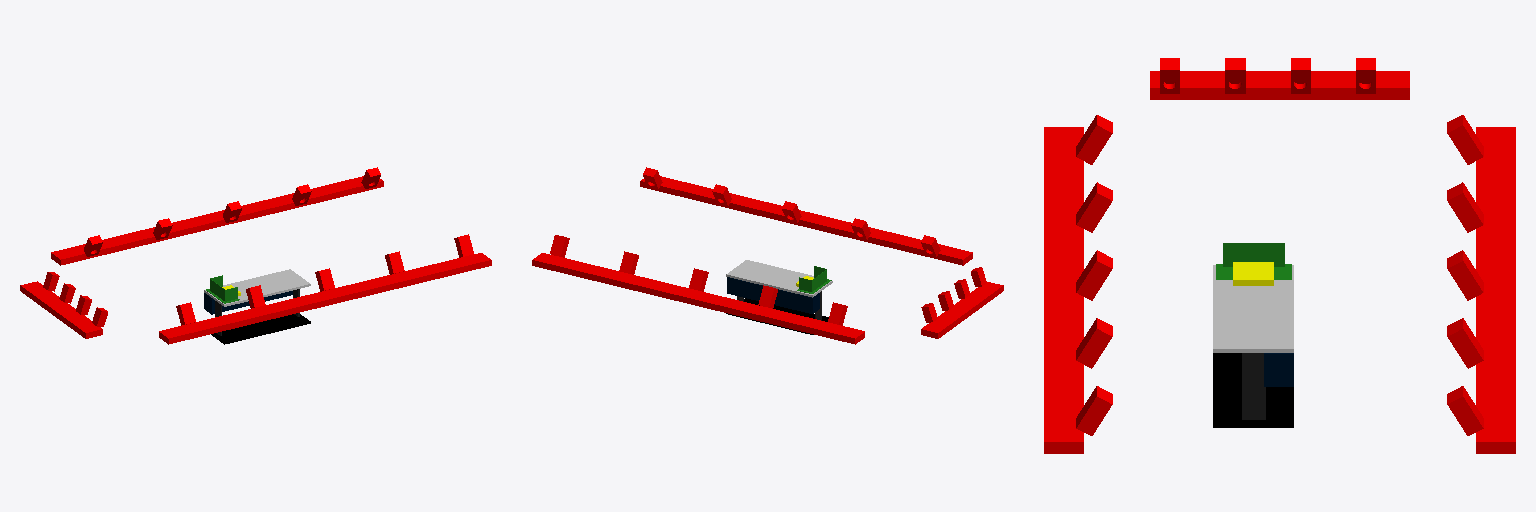
robot.urdf — superchick:
<?xml version="1.0" ?>
<!-- =================================================================================== -->
<!-- |    This document was autogenerated by xacro from src/superchicko/superchick/superchick.xacro | -->
<!-- |    EDITING THIS FILE BY HAND IS NOT RECOMMENDED                                 | -->
<!-- =================================================================================== -->
<robot name="superchick" xmlns:xacro="http://www.ros.org/wiki/xacro">
  <!-- General Properties -->
  <!-- This file contains the table and bladder descriptions -->
  <!-- Matrial Girl
    [author]-->
  <material name="table_color">
    <color rgba="0.8 0.8 0.8 1"/>
  </material>
  <material name="blue">
    <color rgba="0 0 .8 1"/>
  </material>
  <material name="table_cover_color">
    <color rgba="0 0.101960784314 0.2 1"/>
  </material>
  <material name="dark_gray">
    <color rgba="0.156863 0.156863 0.156863 1"/>
  </material>
  <material name="vicon_red">
    <color rgba="1 0 0 1"/>
  </material>
  <material name="white">
    <color rgba="1 1 1 1"/>
  </material>
  <material name="base_color">
    <color rgba="0 0 0 0"/>
  </material>
  <material name="brown">
    <color rgba="0.647059 0.164706 0.164706 1"/>
  </material>
  <material name="bladder_color">
    <color rgba="1.0 1.0 0 1.0"/>
  </material>
  <material name="panel_color">
    <color rgba="0.133 0.55 0.13 1"/>
  </material>
  <!-- Model for the Superchick Table Spec
      Author: [author], August 2016

        Generate urdf with
        rosrun xacro xacro src/superchick/table.xacro > table.urdf
        Then run with

        roslaunch superchick display.launch model:=table.urdf
  -->
  <!-- table top properties -->
  <!-- table leg properties -->
  <!-- table leg base properties -->
  <!-- @TODO: not to scale distance between two legs -->
  <!-- table cover properties -->
  <!-- table legs artificial base link -->
  <link name="world">
    <visual>
      <origin rpy="0 0 0" xyz="0 0 0"/>
      <geometry>
        <box size="1.524 0.6198 0.0381"/>
      </geometry>
      <material name="base_color"/>
      <origin rpy="0 0 0" xyz="0 0 0"/>
    </visual>
    <collision>
      <geometry>
        <box size="1.524 0.6198 0.0381"/>
      </geometry>
    </collision>
    <!-- KDL does not support root link inertia mass -->
  </link>
  <!-- right leg -->
  <link name="right_leg">
    <visual>
      <geometry>
        <box size="0.635 0.1778 0.0254"/>
      </geometry>
      <origin rpy="0 1.57075 0" xyz="0 0 0"/>
      <material name="dark_gray"/>
    </visual>
    <collision>
      <geometry>
        <box size="0.635 0.1778 0.0254"/>
      </geometry>
      <origin rpy="0 1.57075 0" xyz="0 0 0"/>
    </collision>
    <inertial>
      <mass value="0.01"/>
      <inertia ixx="0.000833333333333" ixy="0.0" ixz="0.0" iyy="0.000833333333333" iyz="0.0000" izz="0.000833333333333"/>
    </inertial>
  </link>
  <!-- join right leg to base -->
  <joint name="base_to_right_leg" type="fixed">
    <parent link="world"/>
    <child link="right_leg"/>
    <origin xyz="0.6858 0 0.3"/>
  </joint>
  <!-- draw left leg -->
  <link name="left_leg">
    <visual>
      <geometry>
        <box size="0.635 0.1778 0.0254"/>
      </geometry>
      <origin rpy="0 1.57075 0" xyz="0 0 0"/>
      <material name="dark_gray"/>
    </visual>
    <collision>
      <geometry>
        <box size="0.635 0.1778 0.0254"/>
      </geometry>
      <origin rpy="0 1.57075 0" xyz="0 0 0"/>
    </collision>
    <inertial>
      <mass value="0.01"/>
      <inertia ixx="0.000833333333333" ixy="0.0" ixz="0.0" iyy="0.000833333333333" iyz="0.0000" izz="0.000833333333333"/>
    </inertial>
  </link>
  <!-- join left leg to base -->
  <joint name="base_to_left_leg" type="fixed">
    <parent link="world"/>
    <child link="left_leg"/>
    <origin xyz="-0.6858 0 0.3"/>
  </joint>
  <!-- Overlay table top -->
  <link name="table_top">
    <visual>
      <origin rpy="0 0 0" xyz="0 0 -0.015"/>
      <geometry>
        <box size="1.524 0.6198 0.0381"/>
      </geometry>
      <material name="table_color"/>
      <origin rpy="0 0 0" xyz="0 0 -0.015"/>
    </visual>
    <collision>
      <geometry>
        <box size="1.524 0.6198 0.0381"/>
      </geometry>
    </collision>
    <inertial>
      <mass value="0.01"/>
      <inertia ixx="0.000833333333333" ixy="0.0" ixz="0.0" iyy="0.000833333333333" iyz="0.0000" izz="0.000833333333333"/>
    </inertial>
  </link>
  <joint name="rightleg_to_tabletop" type="fixed">
    <parent link="right_leg"/>
    <child link="table_top"/>
    <origin xyz="-0.6858 0 0.35 "/>
  </joint>
  <!-- <joint name="leftleg_to_tabletop" type="fixed">
    <parent link="left_leg"/>
    <child link="table_top"/>
    <origin xyz="-0.6858 0 0.35 "/>
  </joint> -->
  <link name="table_cover">
    <visual>
      <origin rpy="0 0 0" xyz="0 0 -0.0381"/>
      <geometry>
        <box size="1.524 0.2794 0.227"/>
      </geometry>
      <material name="table_cover_color"/>
      <origin rpy="0 0 0" xyz="0 0 -0.0381"/>
    </visual>
    <collision>
      <geometry>
        <box size="1.524 0.2794 0.227"/>
      </geometry>
    </collision>
    <inertial>
      <mass value="0.01"/>
      <inertia ixx="0.000833333333333" ixy="0.0" ixz="0.0" iyy="0.000833333333333" iyz="0.0000" izz="0.000833333333333"/>
    </inertial>
  </link>
  <joint name="tablecover_to_tabletop" type="fixed">
    <parent link="table_top"/>
    <child link="table_cover"/>
    <origin rpy="-1.570795 0 0 " xyz="0 0.2299 -0.18"/>
  </joint>
  <!-- General Properties -->
  <!-- [author] | November 2016 -->
  <!--    <link name="right_bladder">
     <visual>
       <origin xyz="0 0 0" rpy="0 0 0" />
       <geometry>
         <box size="${bladder_length} ${bladder_width} ${bladder_thickness}" />
       </geometry>
       <material name="bladder_color"/>
       <origin xyz="0 0 0" rpy="0 0 0" />
     </visual>

     <collision>
       <geometry>
        <box size="${bladder_length} ${bladder_width} ${bladder_thickness}" />
       </geometry>
       <origin xyz="0 0 0" rpy="0 0 0" />
     </collision>

     <inertial>
       <mass value="${mass}"/>
       <inertia ixx="${mass/12}" ixy="0.0" ixz="0.0"
        iyy="${inertia_mom}" iyz="0.0000"
        izz="${inertia_mom}"/>
     </inertial>
   </link>

   <link name="left_bladder">
     <visual>
       <origin xyz="0 ${0.1/2} 0" rpy="0 0 0" />
       <geometry>
         <box size="${bladder_length} ${bladder_width} ${bladder_thickness}" />
       </geometry>
       <material name="bladder_color"/>
       <origin xyz="0 ${0.1/2} 0" rpy="0 0 0" />
     </visual>

     <collision>
       <geometry>
        <box size="${bladder_length} ${bladder_width} ${bladder_thickness}" />
       </geometry>
       <origin xyz="0 ${0.1/2} 0" rpy="0 0 0" />
     </collision>

     <inertial>
       <mass value="${mass}"/>
       <inertia ixx="${mass/12}" ixy="0.0" ixz="0.0"
        iyy="${inertia_mom}" iyz="0.0000"
        izz="${inertia_mom}"/>
     </inertial>
   </link> -->
  <link name="big_bladder_link">
    <visual>
      <origin rpy="0 0 0" xyz="0 0 0"/>
      <geometry>
        <box size="0.31496 0.31496 0.0508"/>
      </geometry>
      <material name="bladder_color"/>
      <origin rpy="0 0 0" xyz="0 0 0"/>
    </visual>
    <collision>
      <geometry>
        <box size="0.31496 0.31496 0.1016"/>
      </geometry>
      <origin rpy="0 0 0" xyz="0 0 0"/>
    </collision>
    <inertial>
      <mass value="0.01"/>
      <inertia ixx="0.000833333333333" ixy="0.0" ixz="0.0" iyy="0.000833333333333" iyz="0.0000" izz="0.000833333333333"/>
    </inertial>
  </link>
  <!-- General Properties -->
  <!-- inflatable air bladder -->
  <link name="headnball_link">
    <visual>
      <origin rpy="1.570795 0 -3.14159" xyz="0.0 -0.15 0.0366666666667"/>
      <geometry>
        <mesh filename="package://superchick/meshes/headnball.stl" scale=".001 .001 .001"/>
      </geometry>
      <material name="brown"/>
      <origin rpy="1.570795 0 -3.14159" xyz="0.0 -0.15 0.0366666666667"/>
    </visual>
    <collision>
      <geometry>
        <mesh filename="package://superchick/meshes/headnball.stl" scale=".001 .001 .001"/>
      </geometry>
      <origin rpy="1.570795 0 -3.14159" xyz="0.0 -0.15 0.0366666666667"/>
    </collision>
    <inertial>
      <mass value="0.01"/>
      <inertia ixx="0.000833333333333" ixy="0.0" ixz="0.0" iyy="0.000833333333333" iyz="0.0000" izz="0.000833333333333"/>
    </inertial>
    <!--      <inertial>
       <mass value="1e-1"/>
       <inertia ixx="0.925288" ixy="0.379102" ixz="0.011081"
                iyy="0.919140" iyz="0.111180" izz="0.993738"/>
     </inertial> -->
  </link>
  <!-- Description: Head Cage

	 Author: [author], September 27, 2016
	 Modified: [author] Nov. 18, 2016
 	-->
  <!-- Panel Properties -->
  <link name="base_panel">
    <visual>
      <geometry>
        <box size="0.5842 0.2794 0.0047625"/>
      </geometry>
      <origin rpy="0 0 0" xyz="0 0 0"/>
      <material name="panel_color"/>
    </visual>
    <collision>
      <geometry>
        <box size="0.5842 0.2794 0.0047625"/>
      </geometry>
      <origin rpy="0 0 0" xyz="0 0 0"/>
    </collision>
    <inertial>
      <mass value="0.01"/>
      <inertia ixx="0.000833333333333" ixy="0.0" ixz="0.0" iyy="0.000833333333333" iyz="0.0000" izz="0.000833333333333"/>
    </inertial>
  </link>
  <!-- 12:00 panel -->
  <link name="panel_12_oc">
    <visual>
      <geometry>
        <box size="0.47 0.200025 0.0047625"/>
      </geometry>
      <material name="panel_color"/>
      <origin rpy="1.570795 0 0" xyz="0 0 0"/>
    </visual>
    <collision>
      <geometry>
        <box size="0.47 0.200025 0.0047625"/>
      </geometry>
      <origin rpy="1.570795 0 0" xyz="0 0 0"/>
    </collision>
    <inertial>
      <mass value="0.01"/>
      <inertia ixx="0.000833333333333" ixy="0.0" ixz="0.0" iyy="0.000833333333333" iyz="0.0000" izz="0.000833333333333"/>
    </inertial>
  </link>
  <!-- Join 12:00 Panel to base_panel -->
  <joint name="base_panel_to_12oc" type="fixed">
    <parent link="base_panel"/>
    <child link="panel_12_oc"/>
    <origin xyz="0 0.09398 0.10239375"/>
  </joint>
  <!-- 9:00 Panel -->
  <link name="panel_9_oc">
    <visual>
      <origin rpy="1.570795 0 1.570795" xyz="0 0 0"/>
      <geometry>
        <box size="0.231775 0.200025 0.0047625"/>
      </geometry>
      <material name="panel_color"/>
    </visual>
    <collision>
      <geometry>
        <box size="0.231775 0.200025 0.0047625"/>
      </geometry>
      <origin rpy="1.570795 0 1.570795" xyz="0 0 0"/>
    </collision>
    <inertial>
      <mass value="0.01"/>
      <inertia ixx="0.000833333333333" ixy="0.0" ixz="0.0" iyy="0.000833333333333" iyz="0.0000" izz="0.000833333333333"/>
    </inertial>
  </link>
  <!-- Join 9:00 Panel to 12:00 Panel -->
  <joint name="12oc_to_9oc" type="fixed">
    <parent link="panel_12_oc"/>
    <child link="panel_9_oc"/>
    <origin xyz="-0.23738125 -0.11350625 0"/>
  </joint>
  <!-- 3:00 Panel -->
  <link name="panel_3_oc">
    <visual>
      <origin rpy="1.570795 0 1.570795" xyz="0 0 0"/>
      <geometry>
        <box size="0.231775 0.200025 0.0047625"/>
      </geometry>
      <material name="panel_color"/>
    </visual>
    <collision>
      <geometry>
        <box size="0.231775 0.200025 0.0047625"/>
      </geometry>
      <origin rpy="1.570795 0 1.570795" xyz="0 0 0"/>
    </collision>
    <inertial>
      <mass value="0.01"/>
      <inertia ixx="0.000833333333333" ixy="0.0" ixz="0.0" iyy="0.000833333333333" iyz="0.0000" izz="0.000833333333333"/>
    </inertial>
  </link>
  <!-- Join 3:00 Panel to 12:00 Panel -->
  <joint name="12oc_to_3oc" type="fixed">
    <parent link="panel_12_oc"/>
    <child link="panel_3_oc"/>
    <origin xyz="0.23738125 -0.11350625 0"/>
  </joint>
  <!-- vicon Frame-->
  <link name="vicon_frame">
    <visual>
      <origin rpy="1.570795 0 1.570795" xyz="0 0 0"/>
      <geometry>
        <mesh filename="package://superchick/meshes/vicon3.dae" scale=".001 .001 .001"/>
      </geometry>
      <material name="vicon_red"/>
    </visual>
    <collision>
      <origin rpy="1.570795 0 1.570795" xyz="0 0 0"/>
      <geometry>
        <mesh filename="package://superchick/meshes/vicon3.dae" scale=".001 .001 .001"/>
      </geometry>
      <material name="vicon_red"/>
    </collision>
    <inertial>
      <mass value="0.01"/>
      <inertia ixx="0.000833333333333" ixy="0.0" ixz="0.0" iyy="0.000833333333333" iyz="0.0000" izz="0.000833333333333"/>
    </inertial>
  </link>
  <!-- table link to bladders -->
  <joint name="table_to_big_bladder" type="fixed">
    <parent link="table_top"/>
    <child link="big_bladder_link"/>
    <limit effort="200.0" lower="0.1016" upper="0.1016" velocity="1.0"/>
    <safety_controller k_position="15" k_velocity="10" soft_lower_limit="-0.05" soft_upper_limit="0.05"/>
    <origin rpy="0.0 0 0.0" xyz="-0.532 0 0.0333333333333"/>
  </joint>
  <!--   <joint name="table_to_rightneckbladder" type="fixed">
    <parent link="table_top"/>
    <child link="right_bladder"/>
    <dynamics damping="0.1"/>
    <limit effort="200.0" lower="0.1016" upper="0.1016" velocity="1.0" />
    <safety_controller k_velocity="10" k_position="15" soft_lower_limit="-0.05" soft_upper_limit="0.05" />
    <origin xyz="${-(table_top_length)/3 + 0.15} 0.12 ${1e-1/3.2}" rpy="${0} 0 ${0}" />
  </joint>


  <joint name="table_to_leftneckbladder" type="fixed">
    <parent link="table_top"/>
    <child link="left_bladder"/>
    <limit effort="200.0" lower="0.1016" upper="0.1016" velocity="1.0" />
    <safety_controller k_velocity="10" k_position="15" soft_lower_limit="-0.05" soft_upper_limit="0.05" />
    <origin xyz="${-(table_top_length)/3 + 0.15} -0.12 ${1e-1/3.2}" rpy="${0} 0 ${0}" />
  </joint> -->
  <!-- Actuator Links -->
  <joint name="bigbladder_to_head" type="continuous">
    <axis rpy="0 0 0" xyz="1 0 0"/>
    <parent link="big_bladder_link"/>
    <child link="headnball_link"/>
    <limit effort="200.0" lower="-0.1016" upper="0.1016" velocity="1.0"/>
    <dynamics damping="0.1" friction="0.2"/>
    <safety_controller k_position="15" k_velocity="10" soft_lower_limit="0.0" soft_upper_limit="0.3"/>
    <origin rpy="0 0 1.570795" xyz="0.15 0.1033 0"/>
  </joint>
  <!--   <joint name="rightbladder_to_neck" type="continuous">
    <axis xyz="1 -1 0" rpy="0 0 0" />
    <mimic joint="bigbladder_to_head" multiplier="1" offset="0"/>
    <parent link="headnball_link"/>
    <child link="right_bladder"/>
    <limit effort="200.0" lower="-0.1016" upper="0.1016" velocity="1.0" />
    <dynamics damping="${damping}" friction="${friction}" />
    <safety_controller k_velocity="10" k_position="15" soft_lower_limit="0.0" soft_upper_limit="0.3"/>
    <origin xyz="0 0 0" rpy="0 0 ${M_PI/2}" />
  </joint>

  <joint name="leftbladder_to_neck" type="continuous">
    <axis xyz="1 1 0" rpy="0 0 0" />
    <mimic joint="bigbladder_to_head" multiplier="1" offset="0"/>
    <parent link="left_bladder"/>
    <child link="headnball_link"/>
    <limit effort="200.0" lower="-0.1016" upper="0.1016" velocity="1.0" />
    <dynamics damping="${damping}" friction="${friction}" />
    <safety_controller k_velocity="10" k_position="15" soft_lower_limit="0.0" soft_upper_limit="0.3" />
    <dynamics damping="${damping}" friction="${friction}" />
    <origin xyz="0 0.25 0" rpy="0 0 ${M_PI/2}" />
  </joint>  -->
  <joint name="tableTop_to_basePanel" type="fixed">
    <parent link="table_top"/>
    <child link="base_panel"/>
    <origin rpy="0.0 0 1.570795" xyz="-0.612 0 0.0125"/>
  </joint>
  <joint name="vicon_to_world" type="fixed">
    <parent link="world"/>
    <child link="vicon_frame"/>
    <origin rpy="0 0 0" xyz="-3.5 -2.0 -0.2"/>
  </joint>
  <transmission name="base_transmission">
    <type>transmission_interface/SimpleTransmission</type>
    <joint name="bigbladder_to_head">
      <hardwareInterface>EffortJointInterface</hardwareInterface>
    </joint>
    <actuator name="base_bladder">
      <hardwareInterface>EffortJointInterface</hardwareInterface>
      <mechanicalReduction>1</mechanicalReduction>
    </actuator>
  </transmission>
  <!--    <transmission name="right_transmission">
      <type>transmission_interface/SimpleTransmission</type>
      <joint name="rightbladder_to_neck">
        <hardwareInterface>EffortJointInterface</hardwareInterface>
      </joint>
      <actuator name="right_bladder">
        <hardwareInterface>EffortJointInterface</hardwareInterface>
        <mechanicalReduction>1</mechanicalReduction>
      </actuator>
    </transmission>

    <transmission name="left_transmission">
       <type>transmission_interface/SimpleTransmission</type>
       <joint name="leftbladder_to_neck">
         <hardwareInterface>EffortJointInterface</hardwareInterface>
       </joint>
       <actuator name="left_bladder">
         <hardwareInterface>EffortJointInterface</hardwareInterface>
         <mechanicalReduction>1</mechanicalReduction>
       </actuator>
     </transmission> -->
</robot>

--- What the picture shows (computed from the rendered views, not written in the file) ---
The picture shows the robot from 3 angles, left to right: view 1: azimuth 30°, elevation 25°; view 2: azimuth 150°, elevation 25°; view 3: azimuth 270°, elevation 25°; orthographic projection.
Model superchick with 12 links and 11 joints (1 continuous, 10 fixed), rooted at world, posed every joint at zero.
Visible links, largest first — view 1: vicon_frame, table_top, world; view 2: vicon_frame, table_top, table_cover; view 3: vicon_frame, table_top, world, right_leg, panel_12_oc, table_cover, big_bladder_link.
Link boxes in pixels (x1,y1,x2,y2): vicon_frame: [20, 167, 491, 344]; table_top: [204, 269, 310, 306]; world: [211, 314, 310, 344]; vicon_frame: [532, 167, 1003, 344]; table_top: [726, 260, 832, 297]; table_cover: [727, 277, 819, 313]; vicon_frame: [1044, 58, 1515, 453]; table_top: [1213, 265, 1293, 352]; world: [1213, 353, 1293, 427]; right_leg: [1242, 353, 1265, 419]; panel_12_oc: [1223, 243, 1284, 266]; table_cover: [1264, 353, 1293, 386]; big_bladder_link: [1233, 262, 1273, 285].
Size in the robot's own frame: 6.71 by 3.61 by 1.34 metres.
1 mesh visuals loaded from 2 distinct referenced files (1 Collada DAE); not drawn: 1 (reference not matched to a file when rendering).
